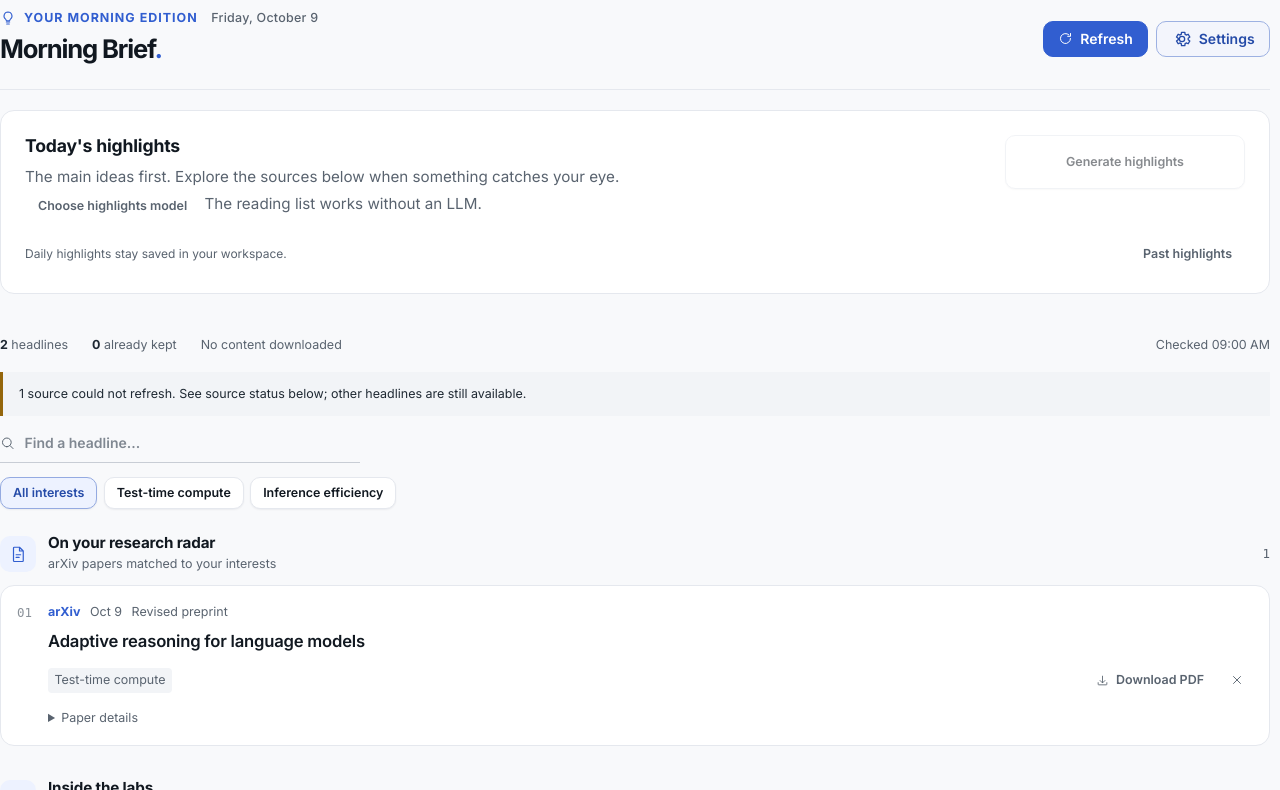
Test: downloads into a temporary reader, keeps explicitly, and clears only fetched data
Step 1. Click the button "Download PDF" → point(1150, 680), box [1083,664,1217,696]
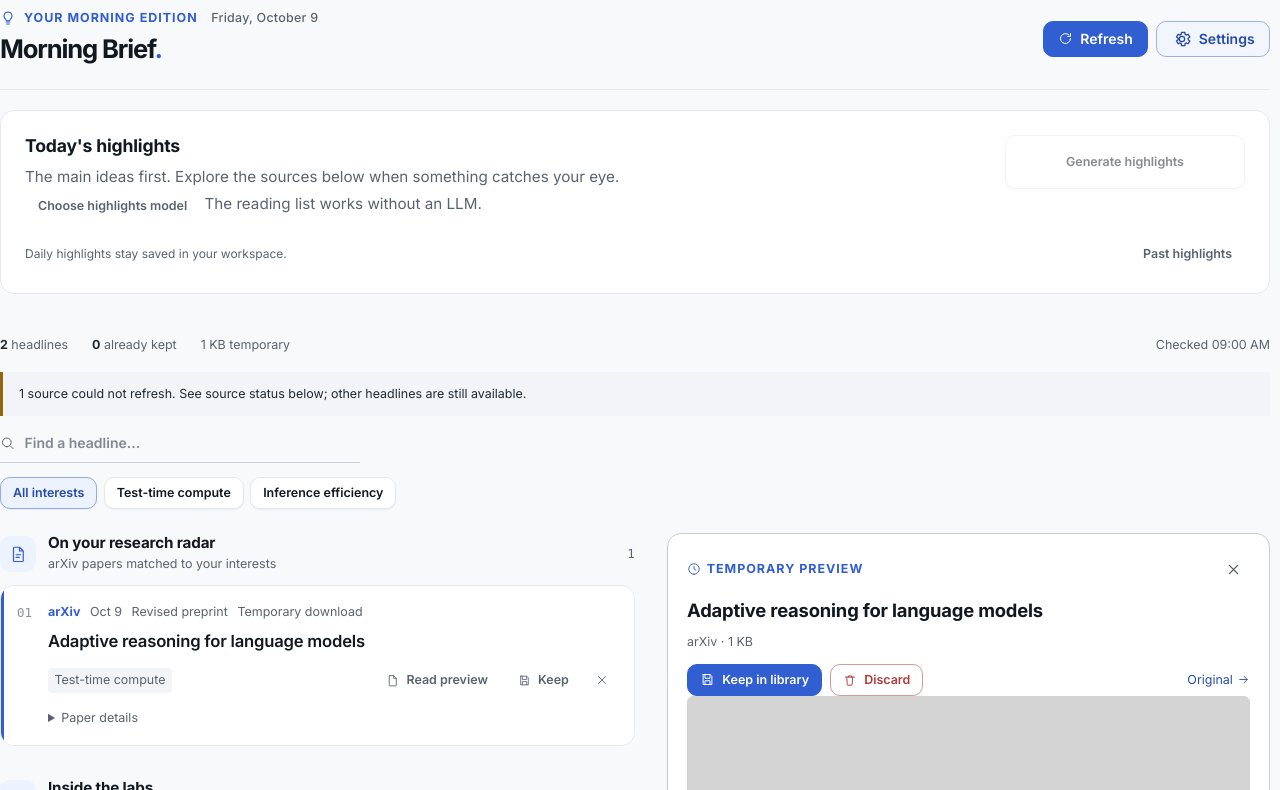
Expected: the text "TEMPORARY PREVIEW" is shown, [687,559,863,579]
Step 2. Click the button "Keep in library" → point(754, 680), box [687,664,822,696]
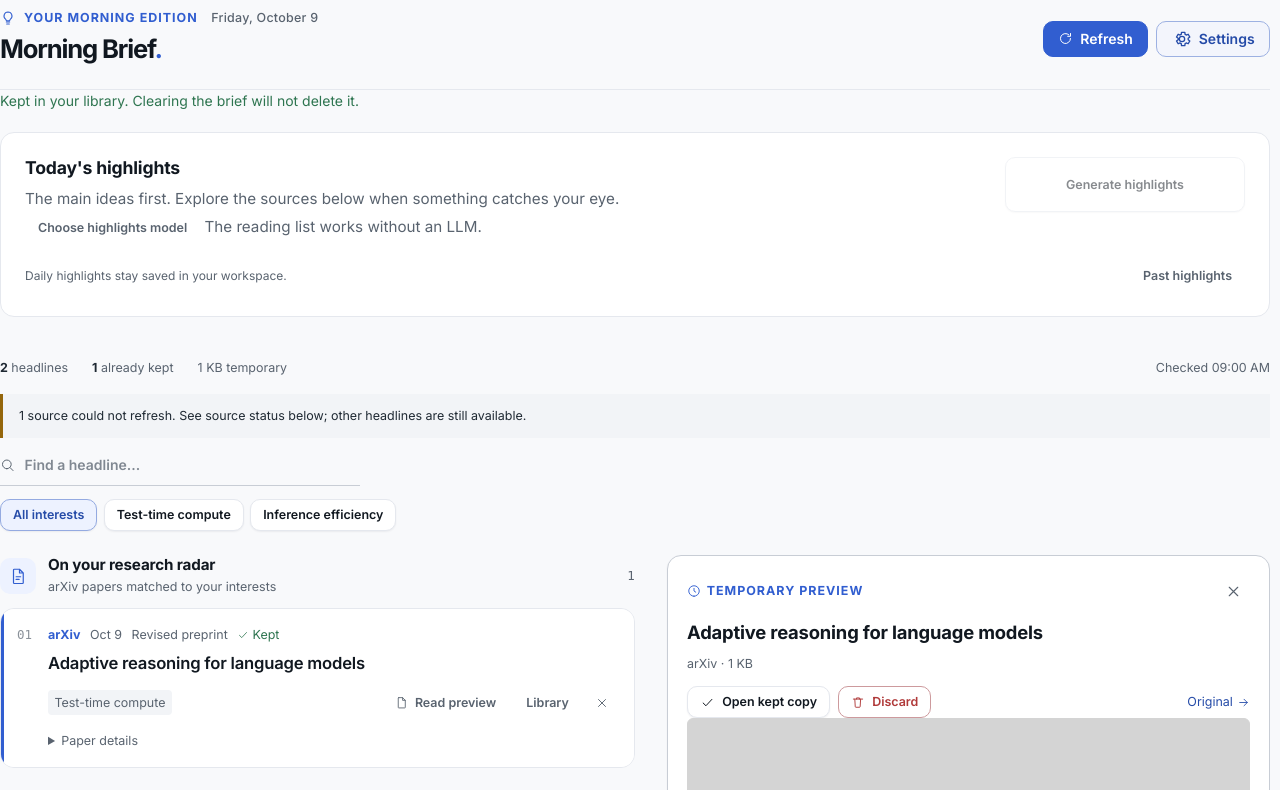
Expected: the text "Kept in your library" is shown, [0,92,359,109]
Expected: the link to "/library?paper=saved-paper-1" is shown, [526,695,569,710]
Step 3. Click the button "Settings" → point(1213, 38), box [1156,20,1270,56]
(page scrolled)
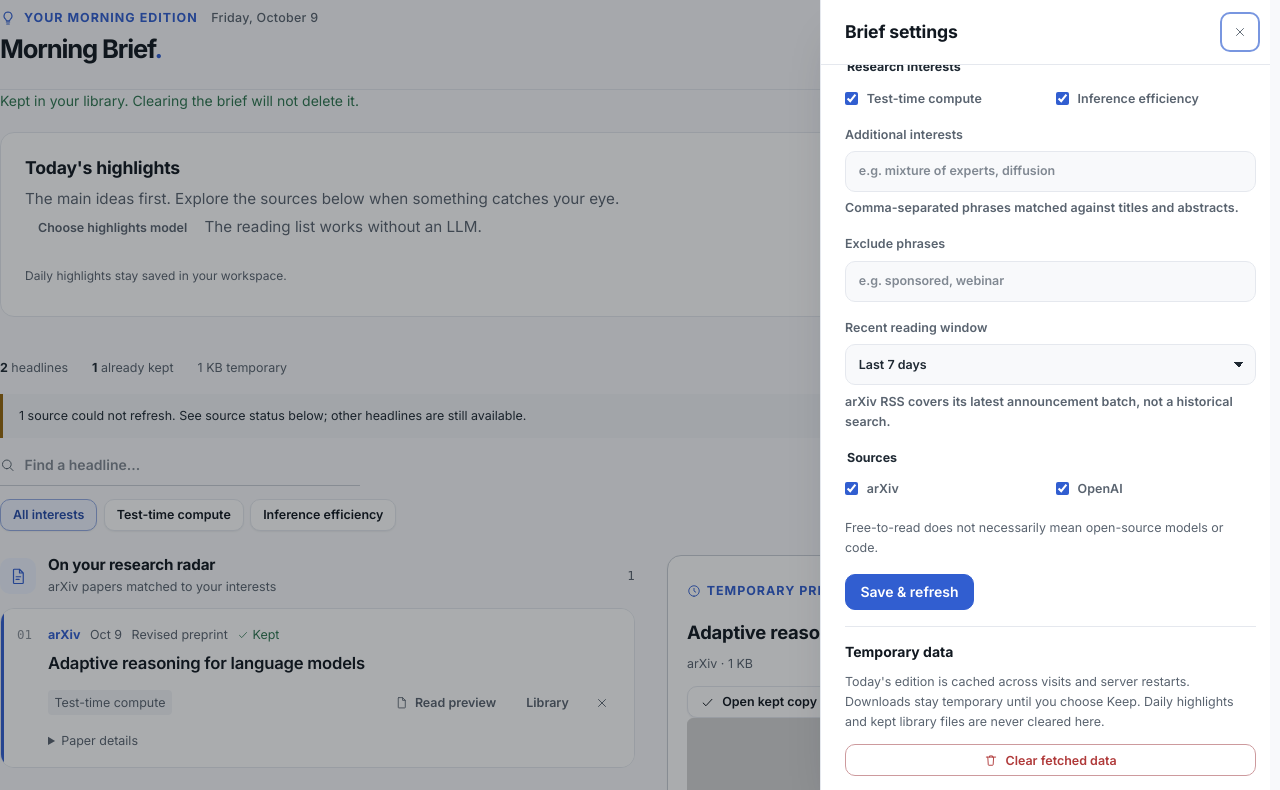
Step 4. Click the button "Clear fetched data" → point(1050, 760), box [845,744,1256,776]
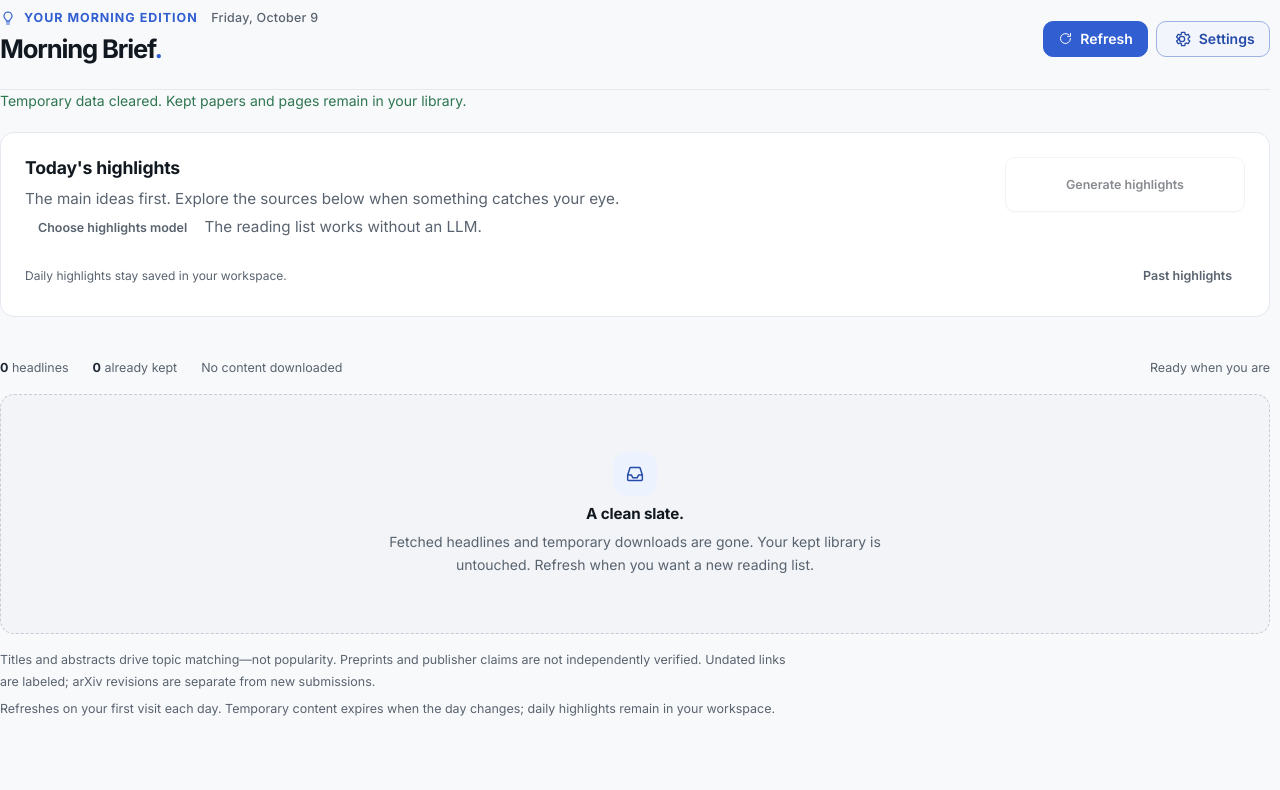
Expected: the text "A clean slate." is shown, [586,504,684,523]
Expected: the text "Adaptive reasoning for language models" is gone
